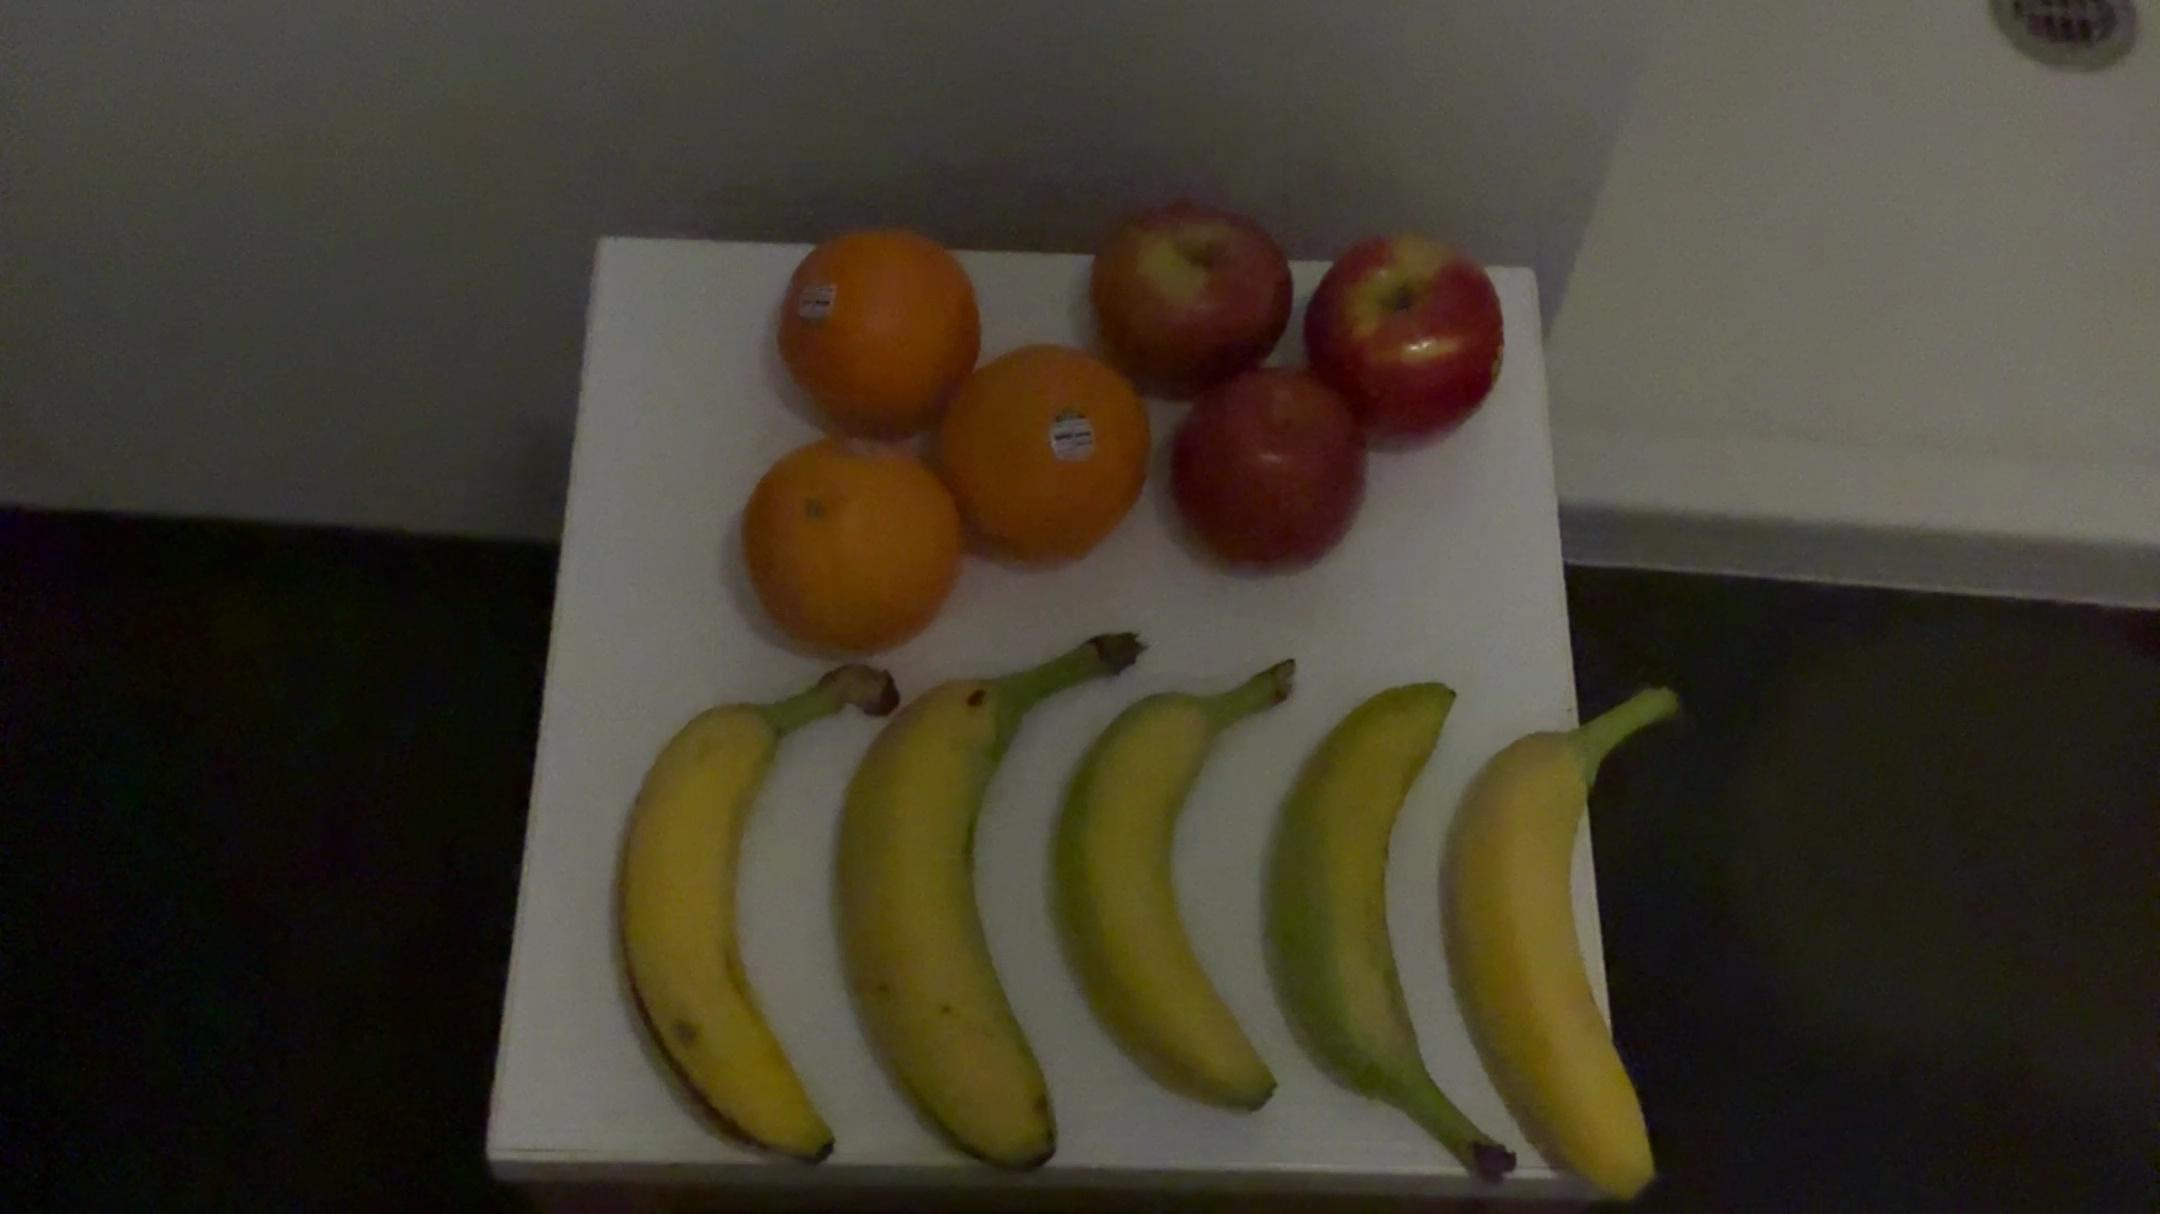apple: (1297, 229, 1506, 442), (1089, 197, 1291, 401), (1165, 371, 1366, 573)
banana: (834, 629, 1142, 1192), (599, 660, 889, 1180), (1255, 672, 1528, 1198), (1435, 680, 1696, 1204), (1030, 653, 1303, 1138)
orange: (739, 429, 966, 660), (944, 347, 1147, 577), (779, 226, 985, 439)
